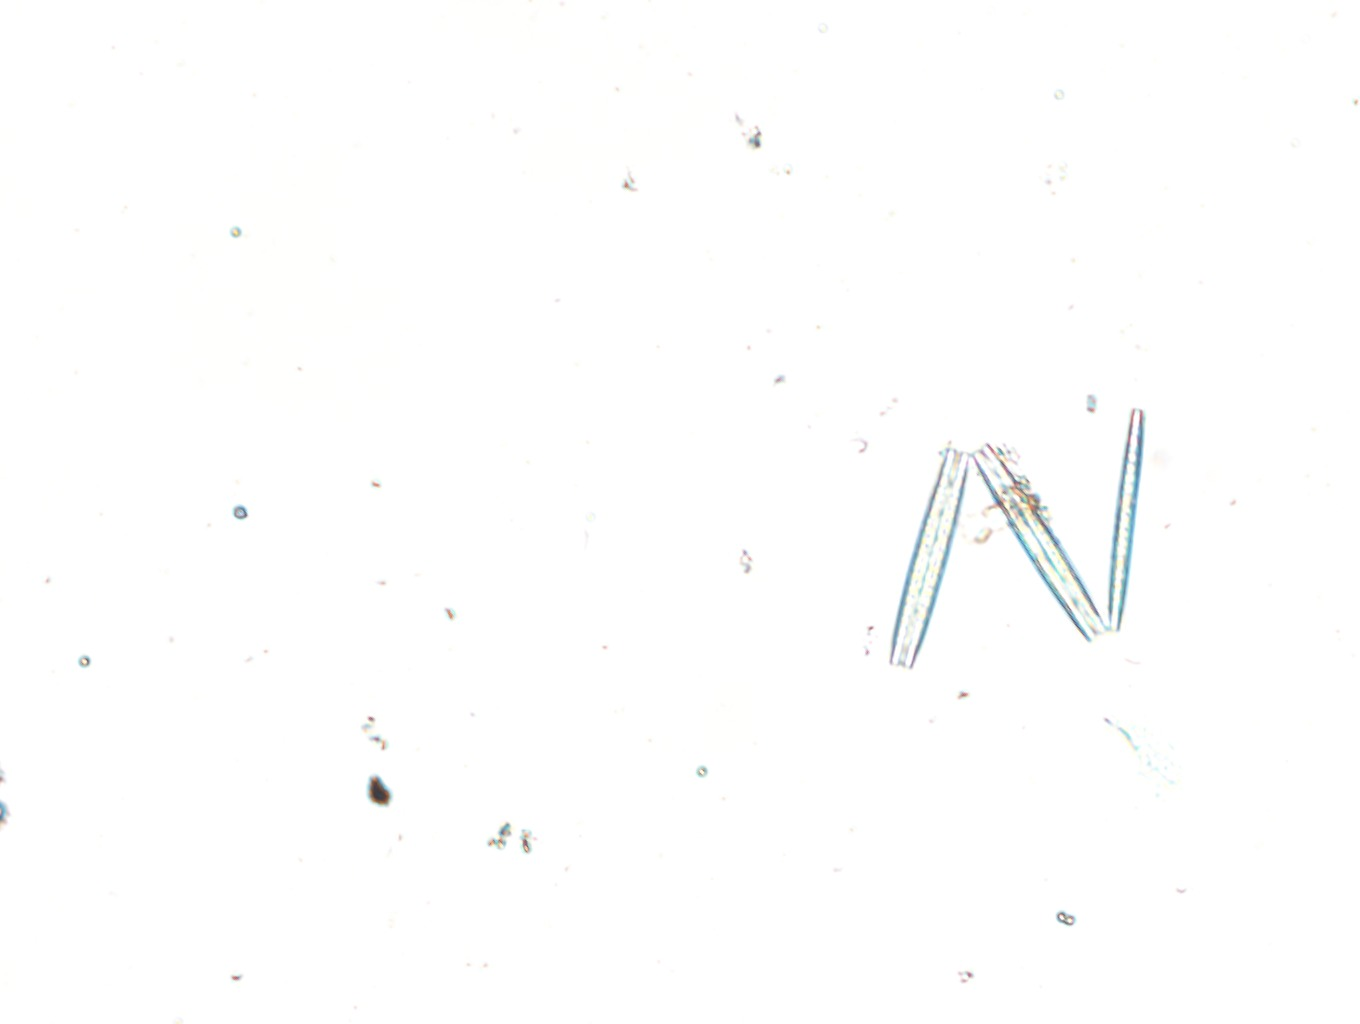thalassionema nitzschioides: (886, 406, 1143, 670)
